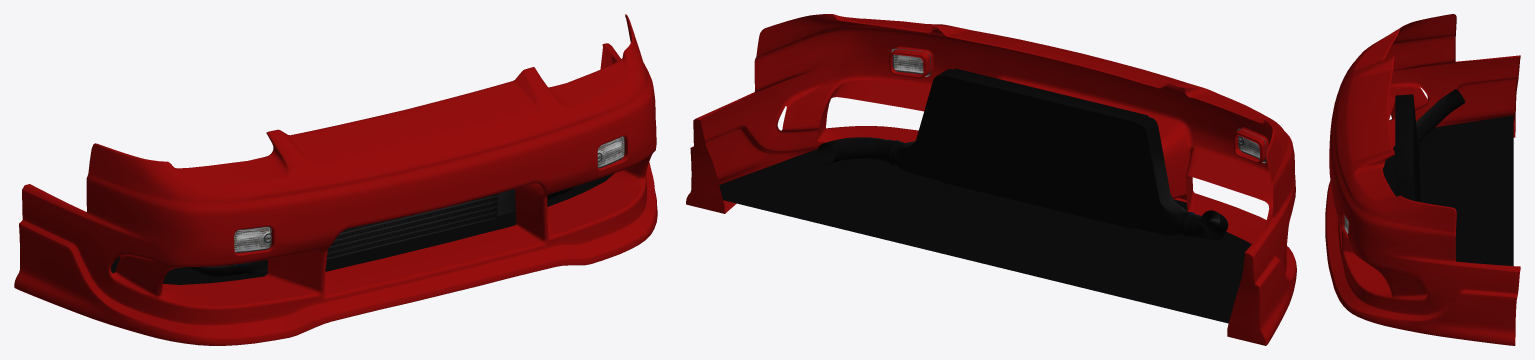
File: frontbumper_originlabofujin.glb
3 renders of one model, left to right at view 1: azimuth 30°, elevation 25°; view 2: azimuth 150°, elevation 25°; view 3: azimuth 270°, elevation 25°, orthographic. The views are drawn at different scales.
Visible parts, largest first — view 1: Bumper, Intercooler, Undercarriage, Lamps; view 2: Bumper, Undercarriage, Intercooler, Lamps; view 3: Bumper, Undercarriage, Intercooler.
Part boxes in pixels (x1,y1,x2,y2): Bumper: (14, 14, 657, 345); Intercooler: (189, 186, 574, 276); Undercarriage: (111, 173, 613, 284); Lamps: (234, 136, 624, 252); Bumper: (686, 14, 1296, 345); Undercarriage: (719, 149, 1251, 323); Intercooler: (817, 68, 1228, 240); Lamps: (891, 48, 1266, 163); Bumper: (1325, 14, 1520, 345); Undercarriage: (1382, 115, 1513, 265); Intercooler: (1395, 89, 1465, 201).
Size of the model in its own units: 1.75 by 0.4747 by 0.6474.
Materials: 4 (2 with a texture image).
